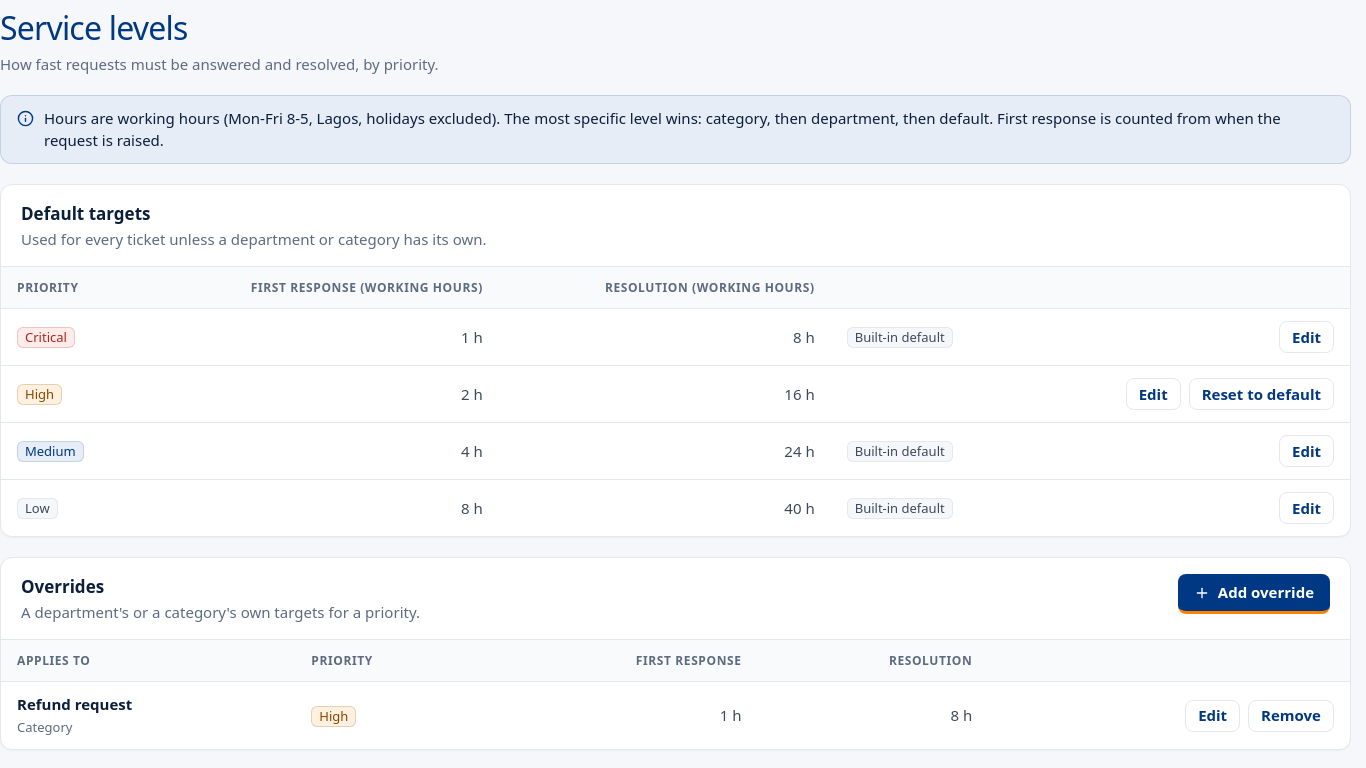
Test: Service levels › edits a default level with PUT
Click the button "Edit" in the row of "Medium": (1306, 451) [1279,435,1334,467]
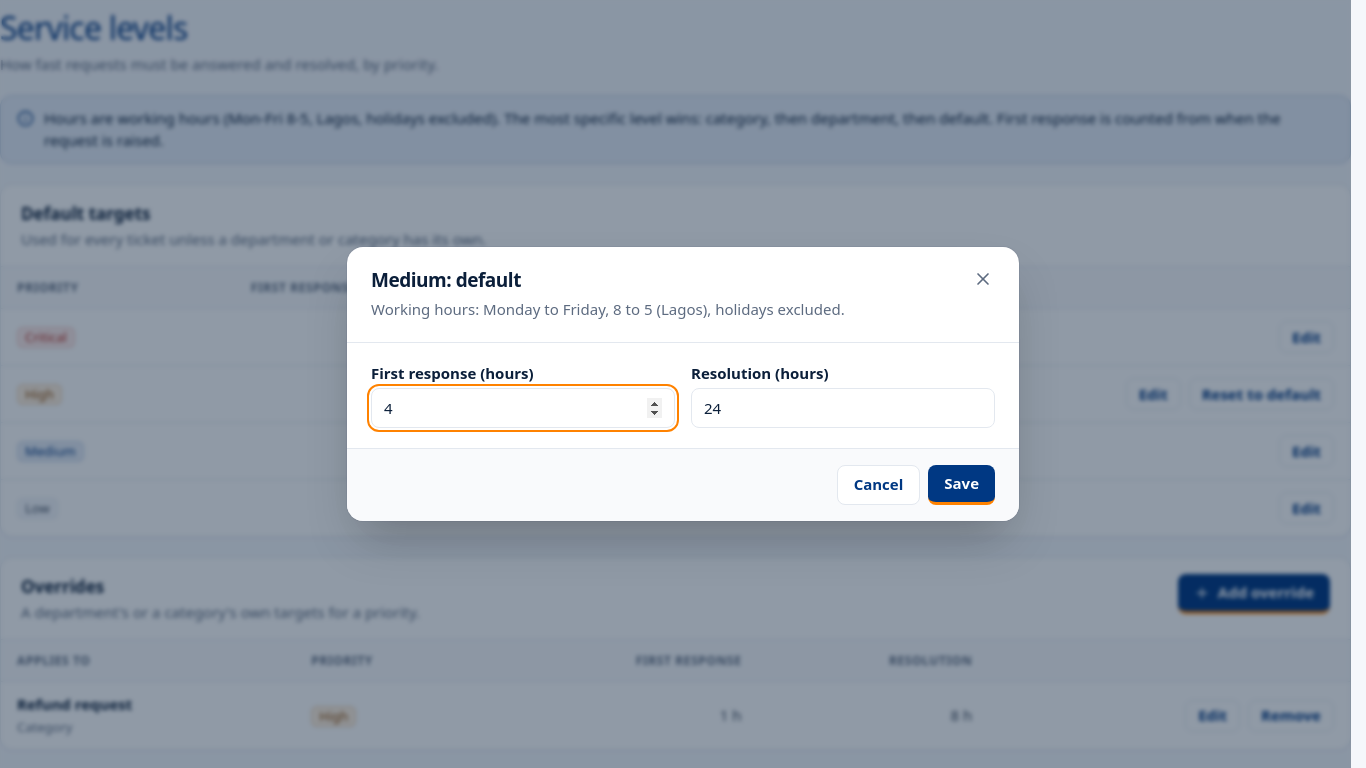
Replace the text in the number field labelled "First response (hours)" with "3": (523, 408) [371,388,675,428]
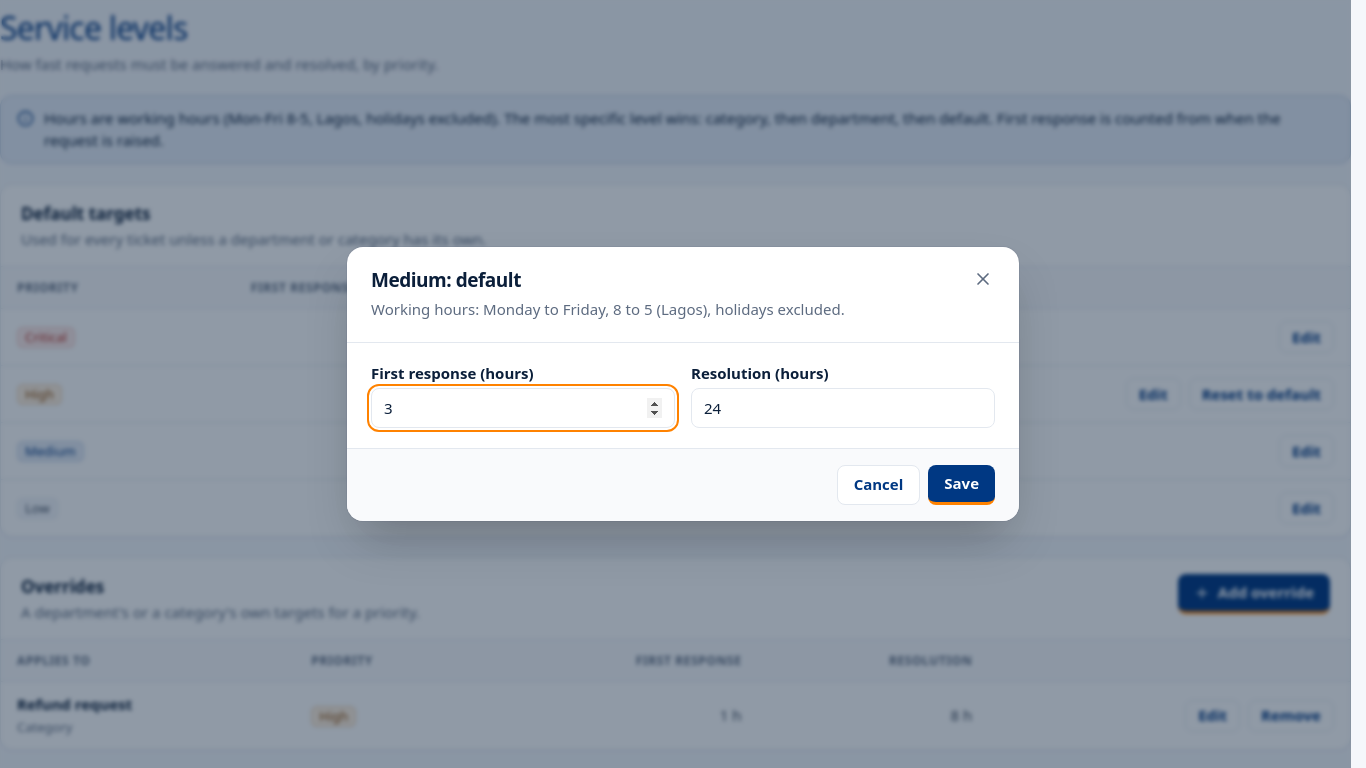
Click the button "Save": (962, 485) [928,465,995,505]
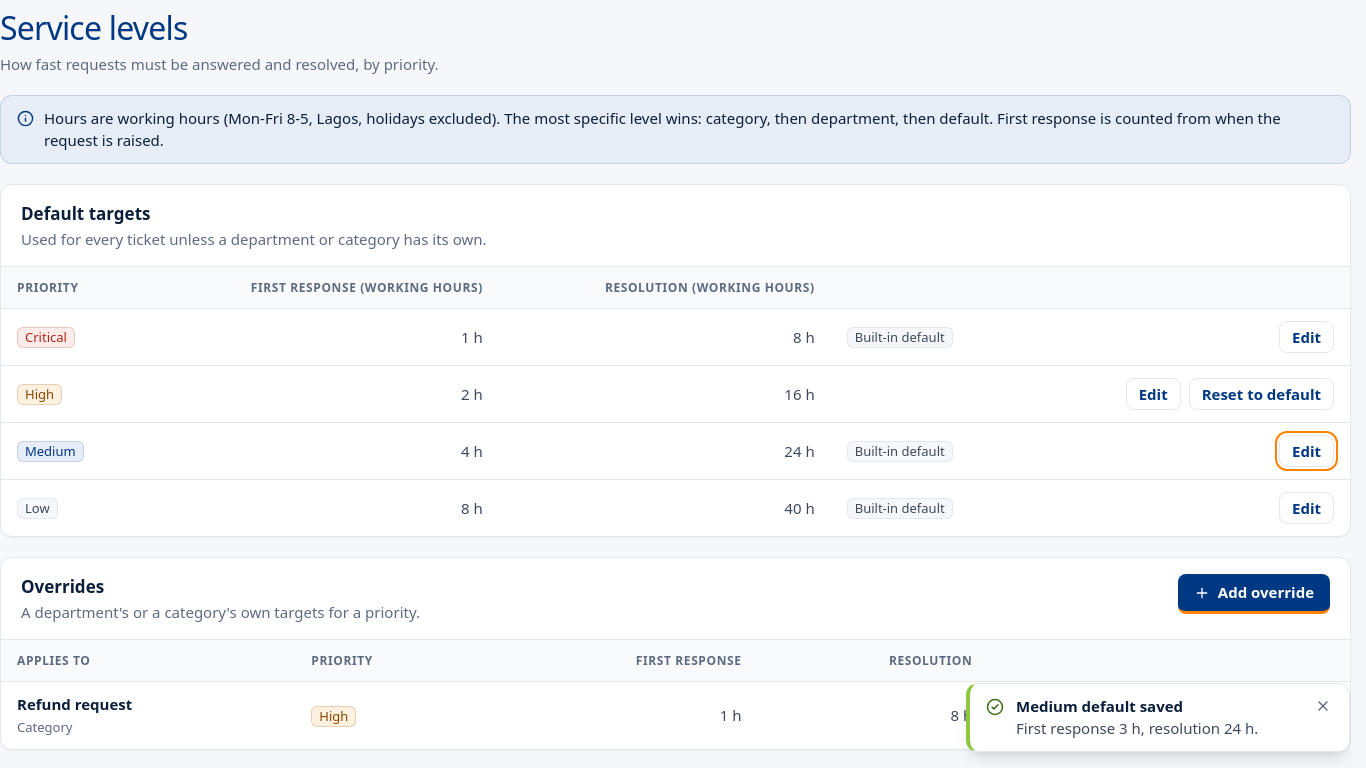
Expected: the text "Medium default saved" is shown, [1016,696,1183,716]
